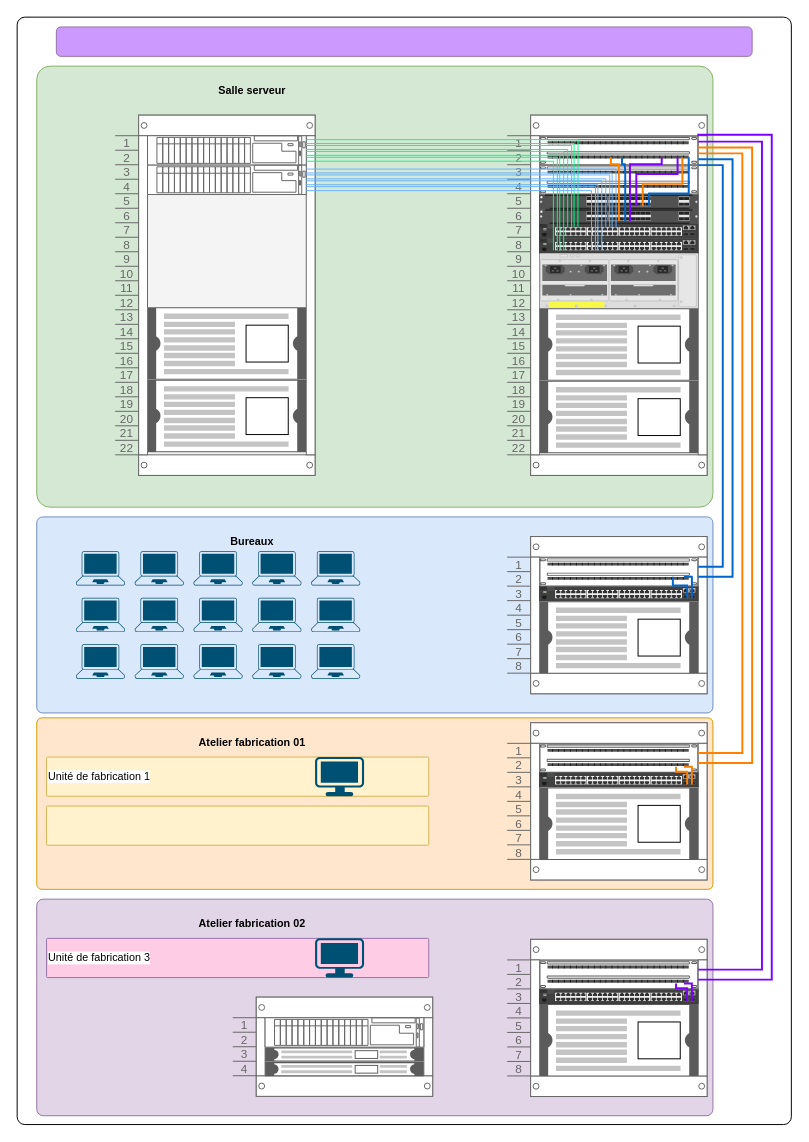
Some shapes in this 809 by 1142 pixel diagram are drawn without their labels. The shapes that lost their labels are listed below. From the top down, each one's centre as x and y in pixels, then its label:
At point 403,41: "1.1 - TP fil rouge - Partie 2 - Annexe 1 - Topologie réseau".
At point 237,825: "Unité de fabrication 2".
